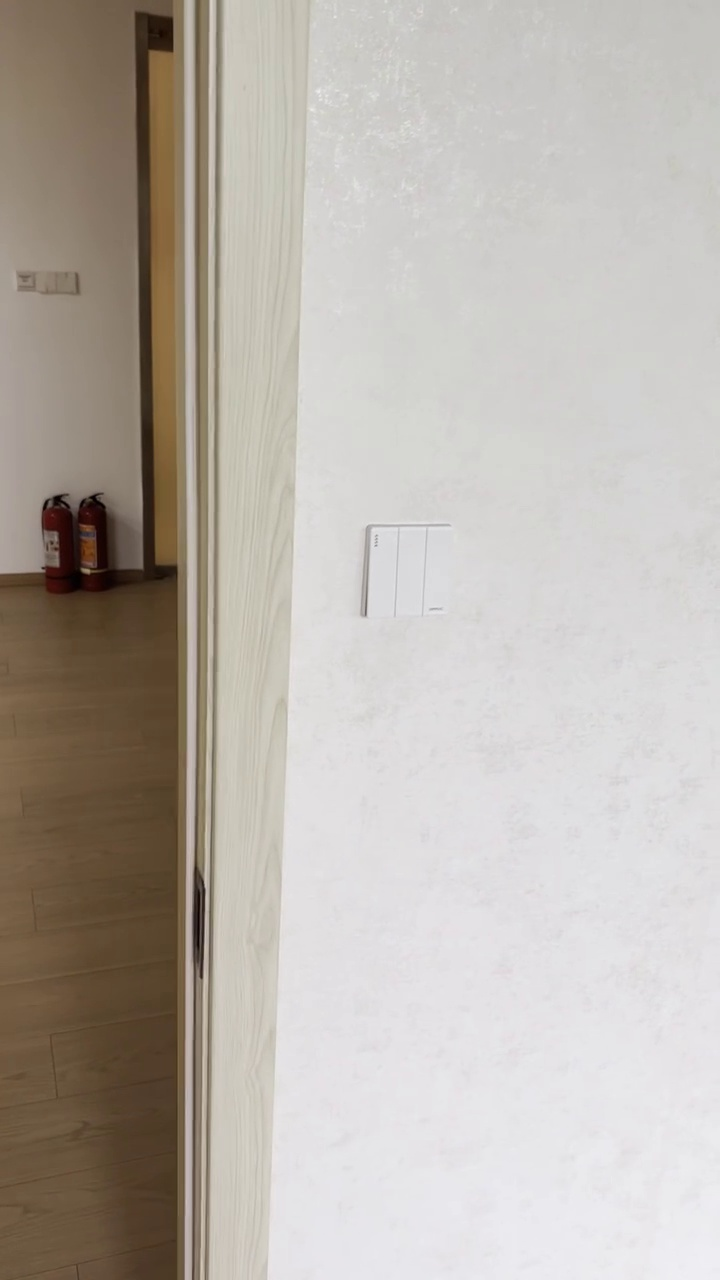button: (359, 519, 459, 624), (36, 266, 80, 297)
